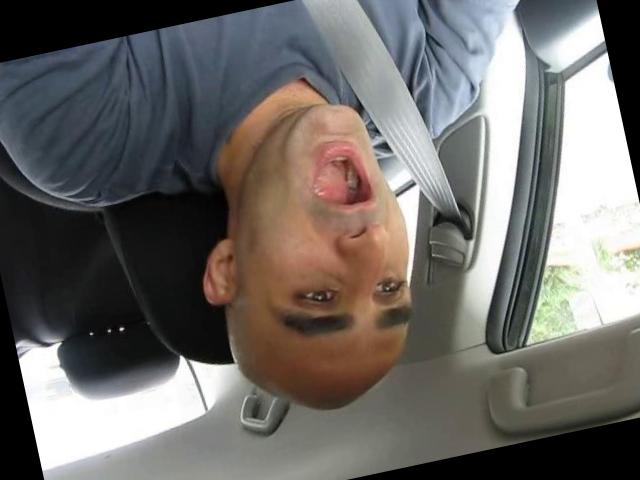eye_open: (292, 279, 346, 314), (368, 273, 408, 304)
face: (222, 90, 438, 376)
mouth_open: (296, 129, 384, 225)
